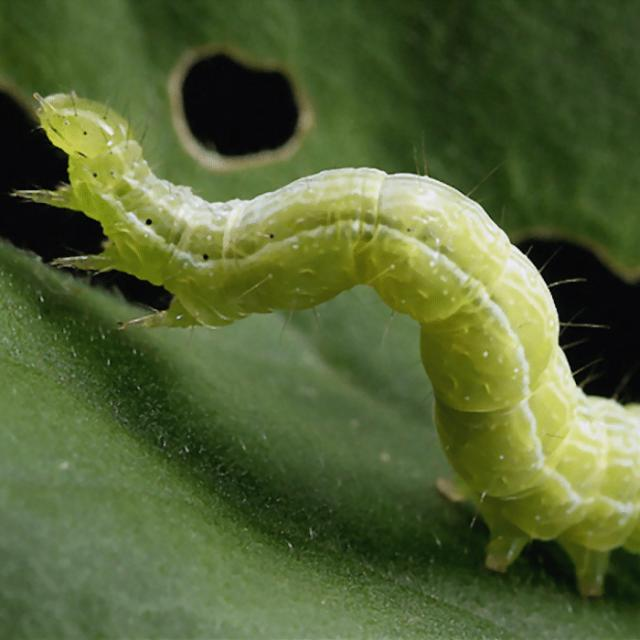looper: (12, 79, 640, 590)
